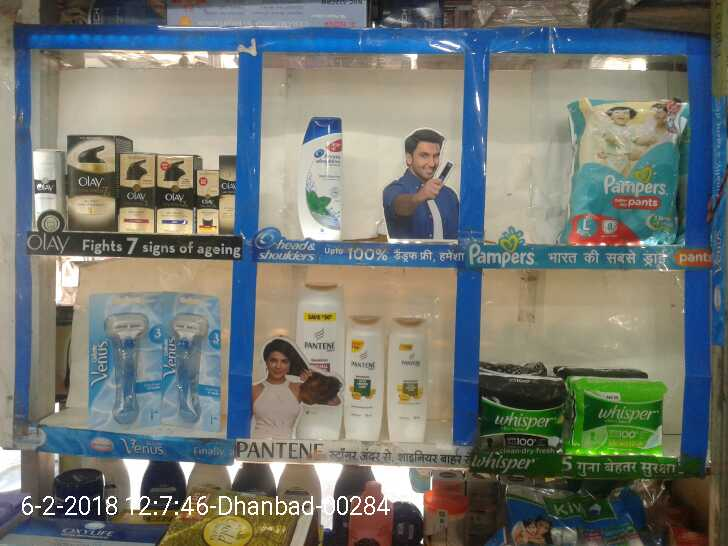venus: (89, 296, 159, 426), (159, 293, 218, 426)
